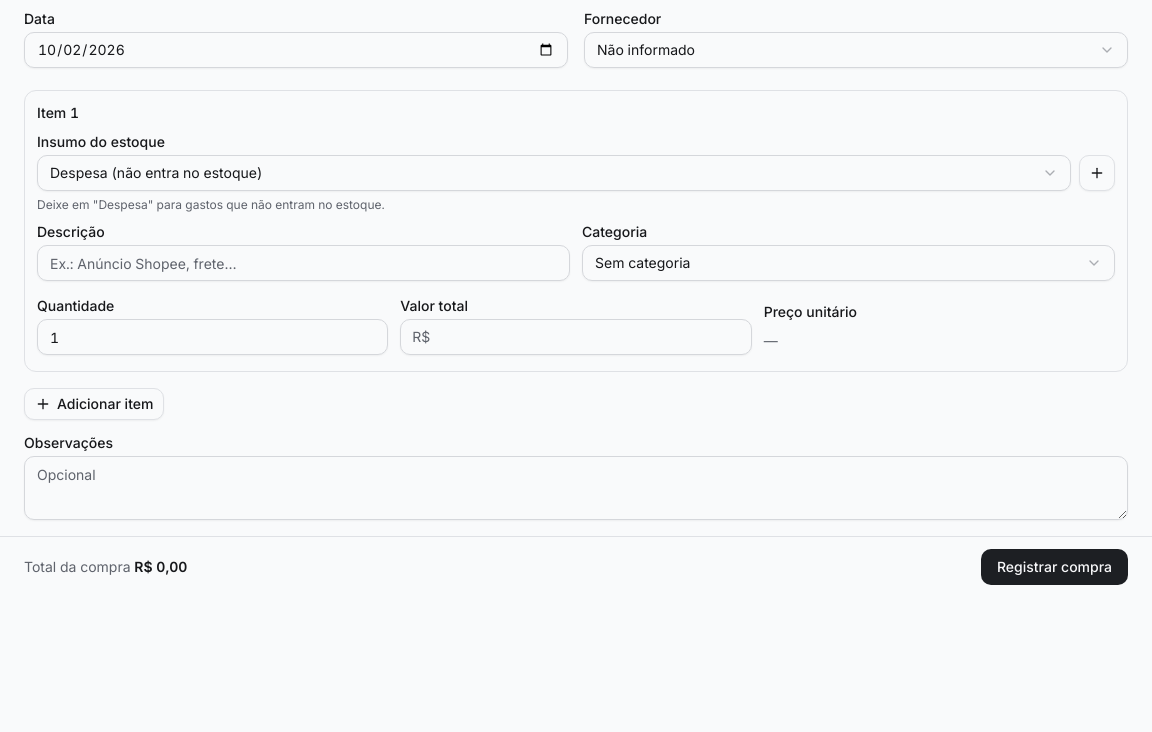
Test: PurchaseForm › asks for a description or a material, and a total
The width and height of the screenshot is (1152, 732).
Click the button "Registrar compra": click(1054, 567) [981, 549, 1128, 585]
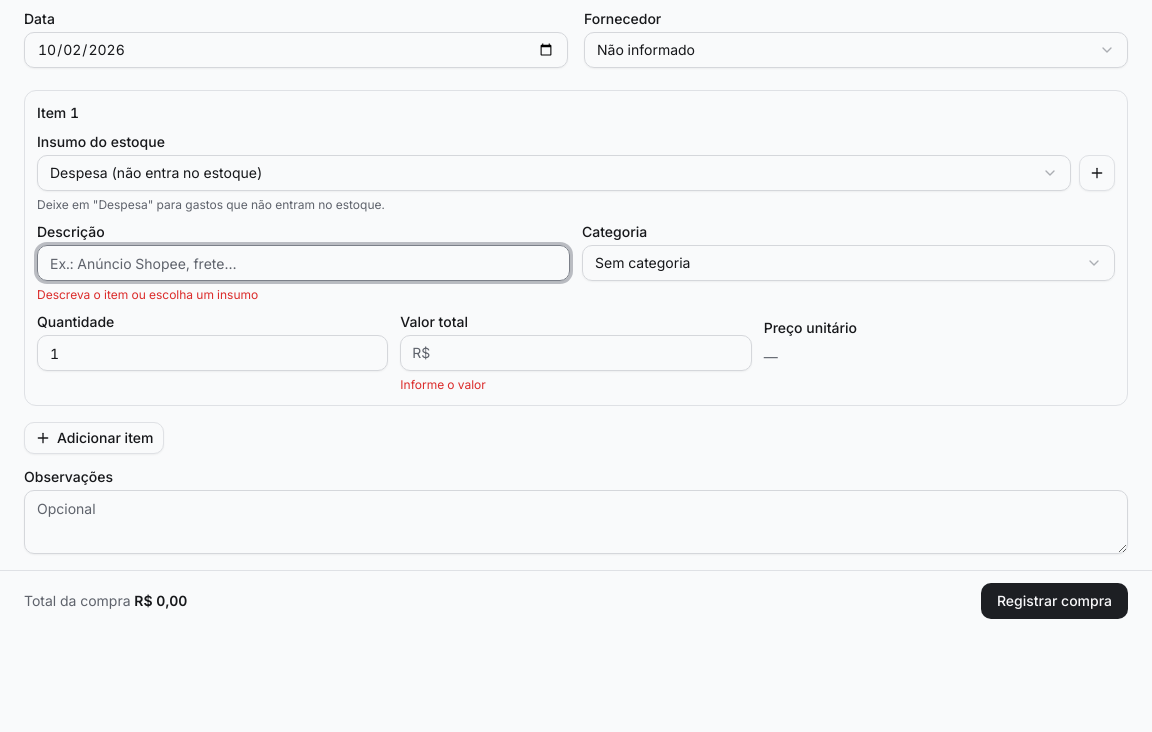
Now the text "Descreva o item ou escolha um insumo" is shown, box [37, 287, 258, 302]
Now the text "Informe o valor" is shown, box [400, 377, 486, 392]
